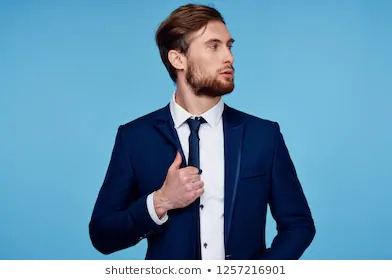F_M_suit jacket: (85, 97, 320, 259)
